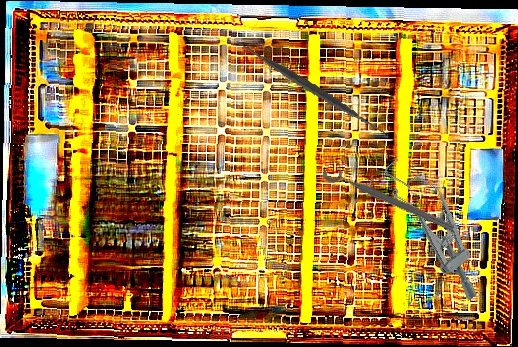Fixation Ring: (321, 156, 460, 236)
Spatula Surgical: (235, 15, 387, 161)
Speculum: (361, 148, 505, 309)
